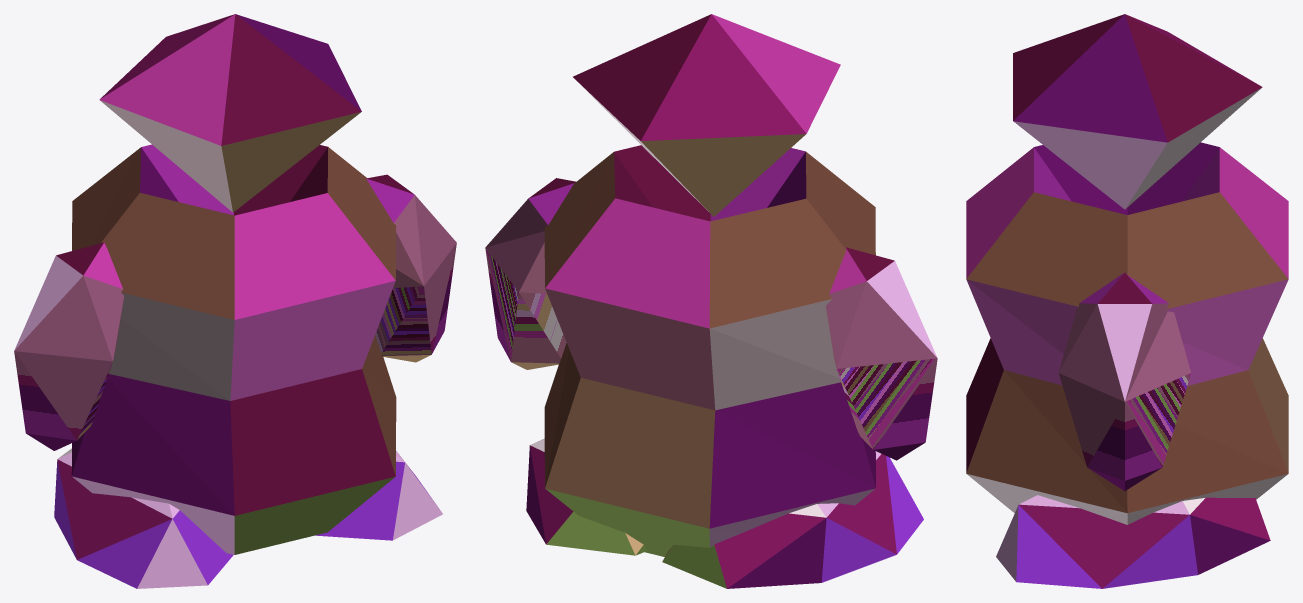
Rendered from kirbypoly.obj.
The picture shows the model from 3 angles, left to right: view 1: azimuth 30°, elevation 25°; view 2: azimuth 150°, elevation 25°; view 3: azimuth 270°, elevation 25°; orthographic projection. The views are drawn at different scales.
Parts seen in each view (by area): view 1: Nemu_60999451_0_002, Nemu_60999451_0_008, Nemu_60999451_0_005, Nemu_60999451_0_006, Nemu_60999451_0_004, Nemu_60999451_0_003, Nemu_60999451_0_007; view 2: Nemu_60999451_0_002, Nemu_60999451_0_008, Nemu_60999451_0_005, Nemu_60999451_0_006, Nemu_60999451_0_004, Nemu_60999451_0_003, Nemu_60999451_0_007; view 3: Nemu_60999451_0_002, Nemu_60999451_0_007, Nemu_60999451_0_003, Nemu_60999451_0_004.
Part boxes in pixels (<box>): Nemu_60999451_0_002: <box>71,14,396,554</box>; Nemu_60999451_0_008: <box>54,448,233,588</box>; Nemu_60999451_0_005: <box>14,242,124,361</box>; Nemu_60999451_0_006: <box>14,351,112,450</box>; Nemu_60999451_0_004: <box>375,243,456,362</box>; Nemu_60999451_0_003: <box>366,174,456,288</box>; Nemu_60999451_0_007: <box>315,451,442,540</box>; Nemu_60999451_0_002: <box>544,14,875,556</box>; Nemu_60999451_0_008: <box>662,451,923,588</box>; Nemu_60999451_0_005: <box>826,247,937,368</box>; Nemu_60999451_0_006: <box>837,358,937,460</box>; Nemu_60999451_0_004: <box>485,248,566,369</box>; Nemu_60999451_0_003: <box>485,178,575,293</box>; Nemu_60999451_0_007: <box>526,438,647,555</box>; Nemu_60999451_0_002: <box>966,14,1288,524</box>; Nemu_60999451_0_007: <box>996,495,1270,588</box>; Nemu_60999451_0_003: <box>1058,272,1190,401</box>; Nemu_60999451_0_004: <box>1058,373,1190,490</box>.
Size of the model in its own units: 0.366 by 0.4019 by 0.2325.
Materials: 1 (1 with a texture image).
